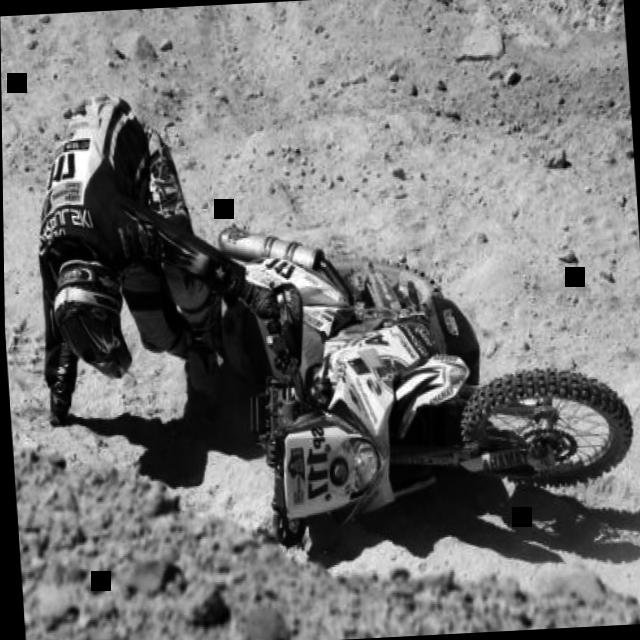Fall-Detected: (8, 56, 298, 454)
